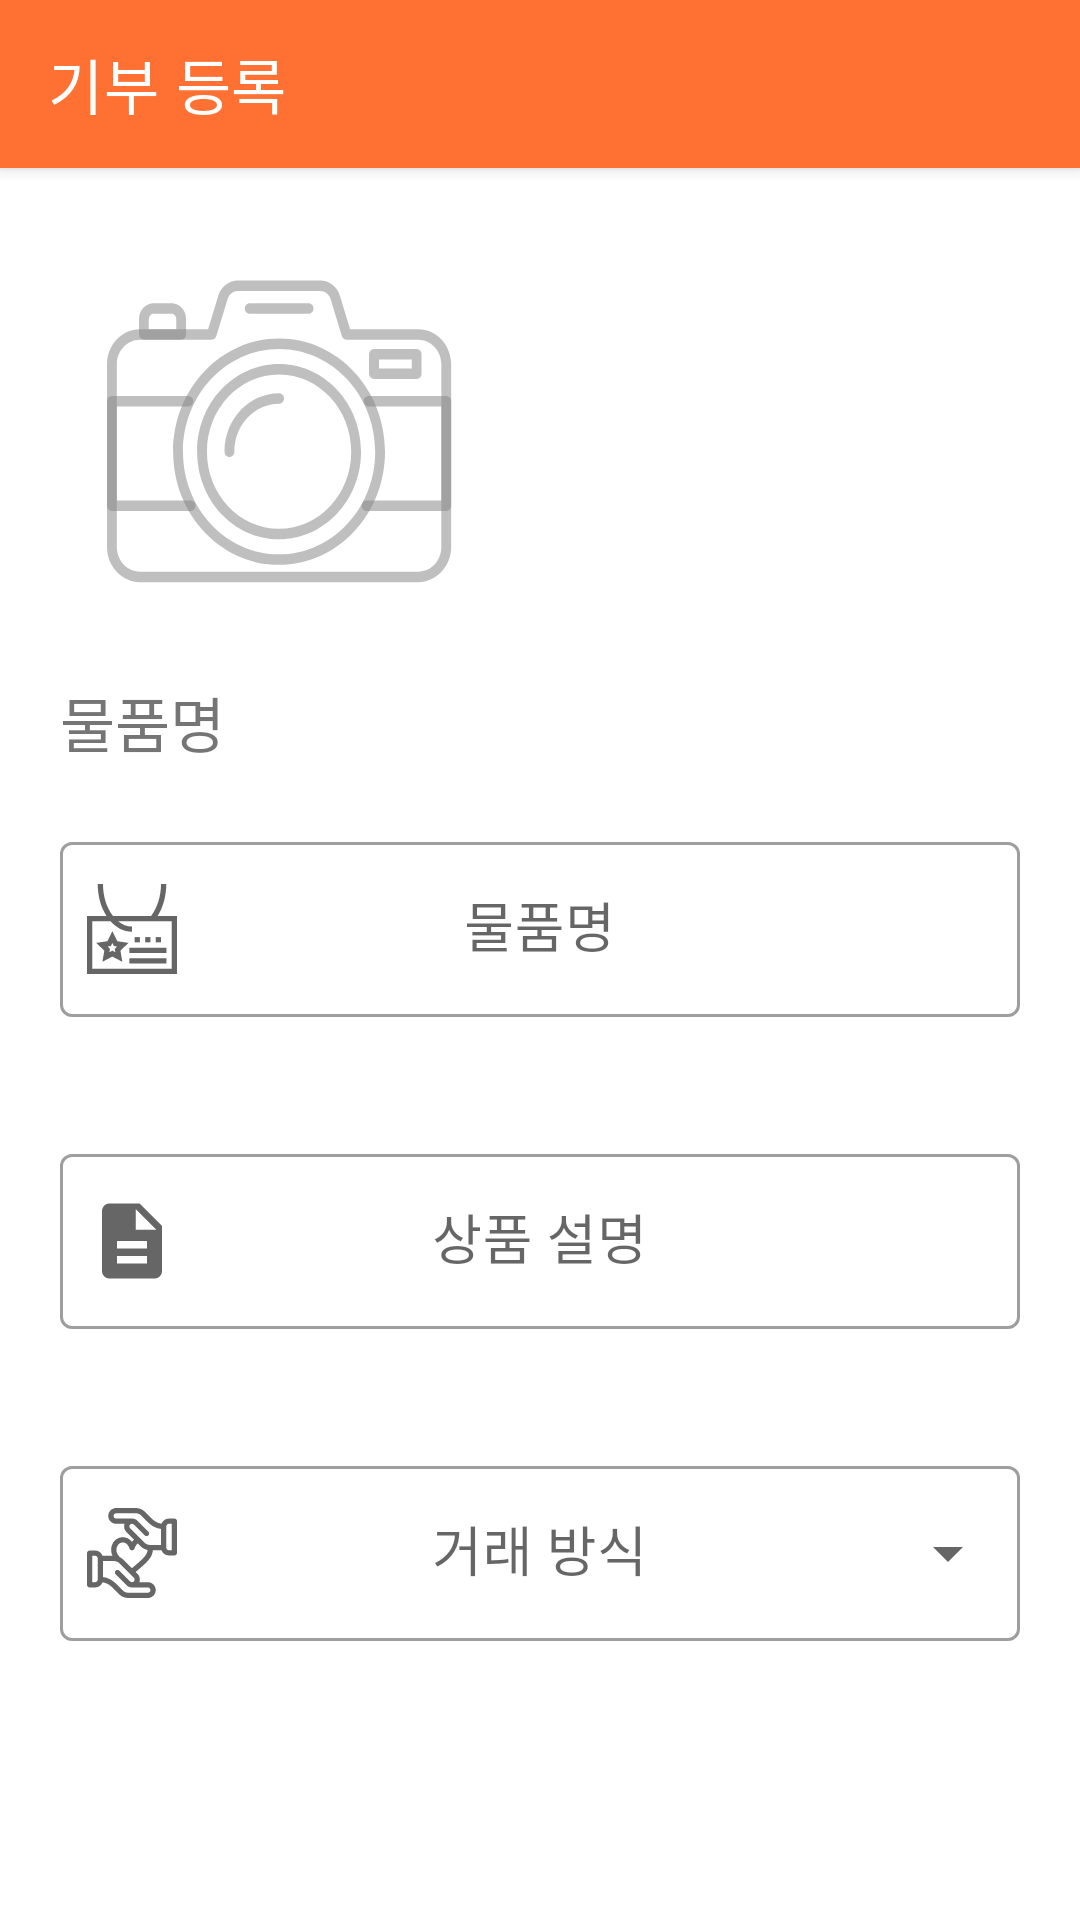

Point at icon controls on the screen. Image size 1080 × 1920, points as (x=x, y=y).
add photo: (x=279, y=431)
